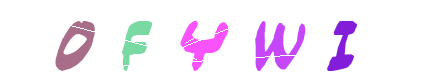0: (35, 0, 115, 80)
F: (95, 0, 175, 80)
I: (302, 0, 382, 80)
W: (205, 0, 285, 80)
Y: (173, 0, 253, 80)
